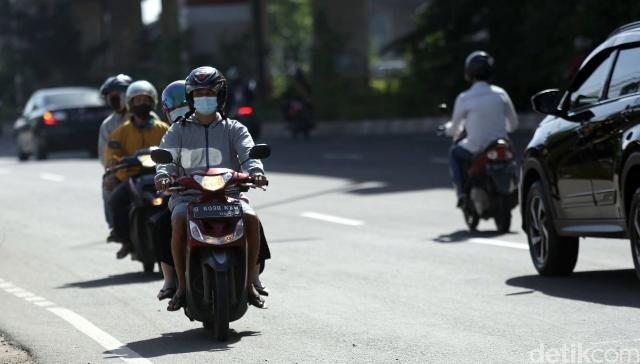helm: (184, 68, 230, 123), (99, 72, 135, 116), (162, 81, 197, 125), (127, 81, 160, 124), (463, 50, 499, 88)
motor: (150, 144, 274, 349), (433, 106, 525, 235), (103, 140, 181, 281)
